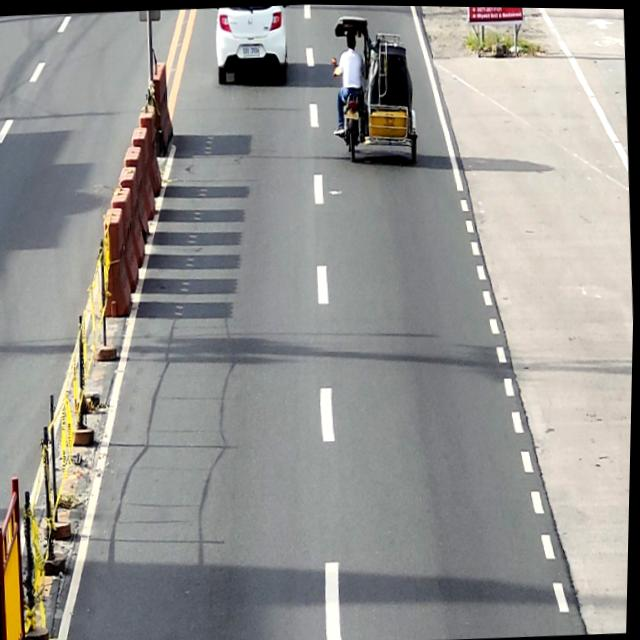Car: (213, 3, 289, 84)
License-Plate: (242, 41, 261, 59), (346, 107, 360, 120)
Tricycle: (328, 10, 422, 166)
